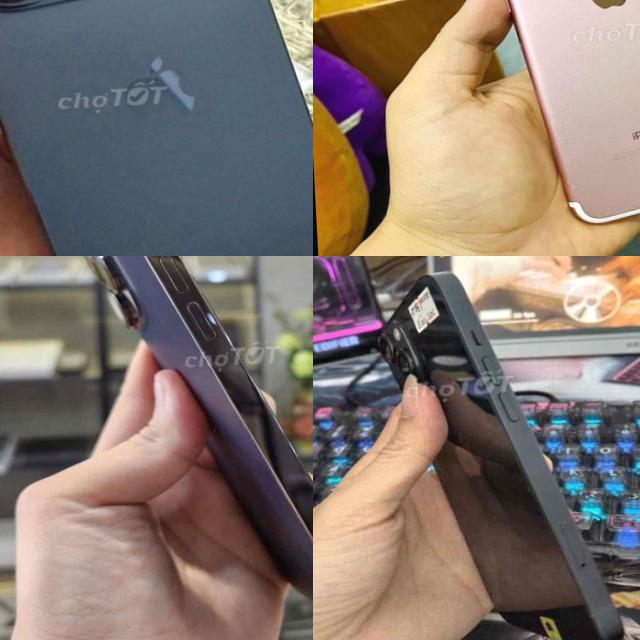scratch: (564, 174, 582, 195), (599, 148, 611, 156)
